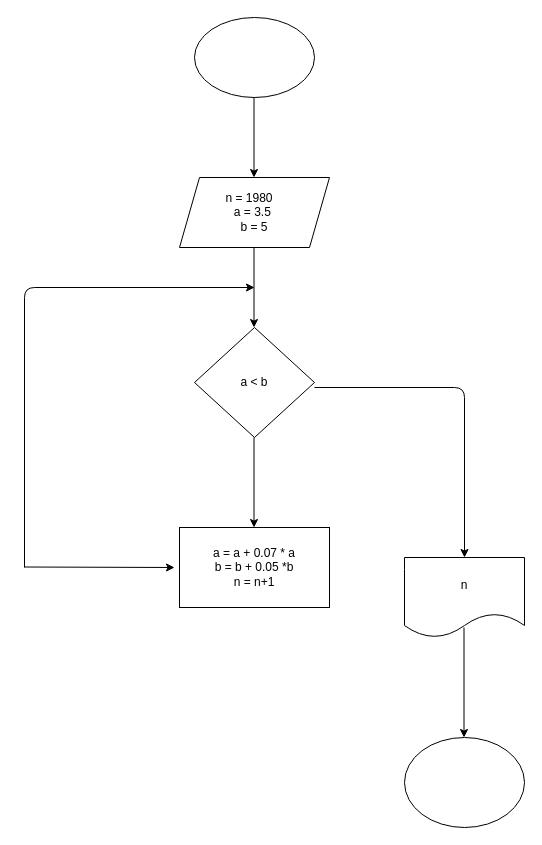
Image size: 542x845. Some labels were removed from this diagram. Each missing label, with the box of its shape:
FIN: (404, 736, 524, 828)
INICIO: (194, 16, 314, 98)
